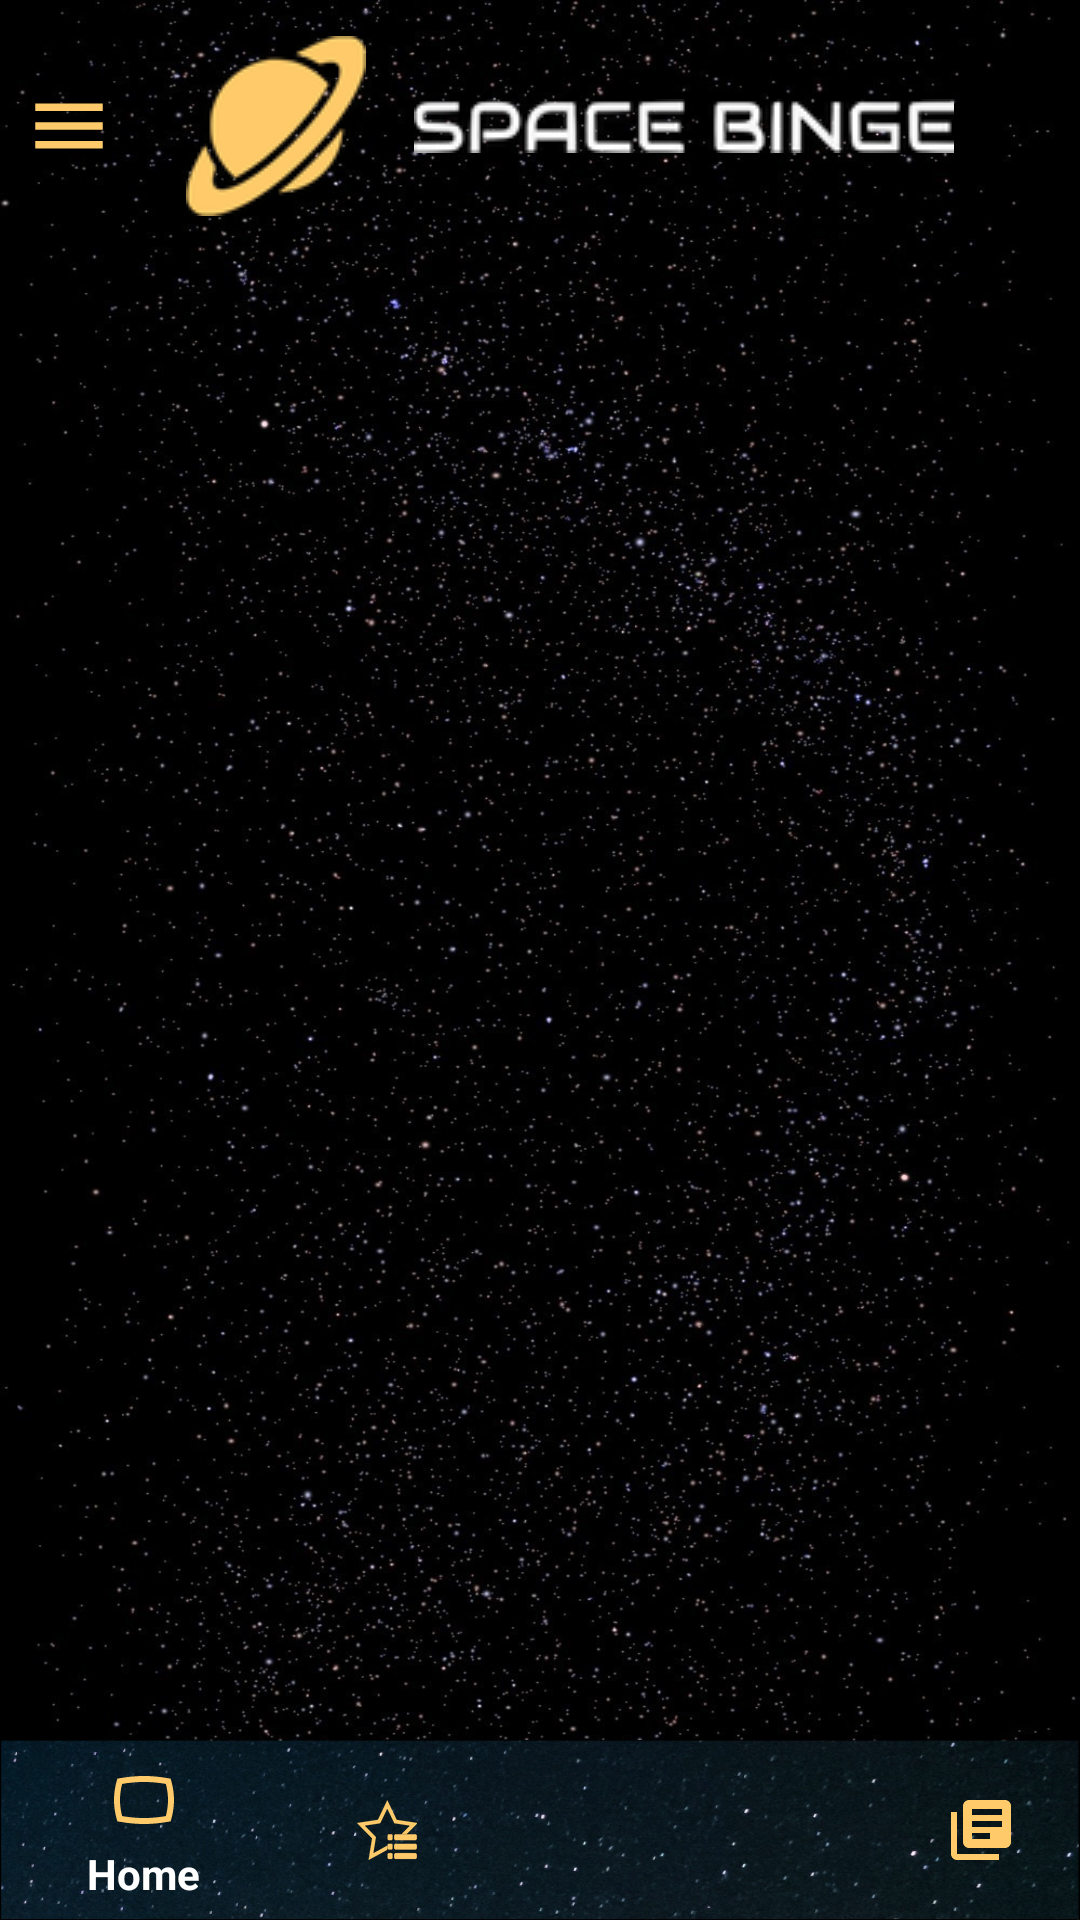

Named icons in this screenshot (1080 × 1920) and their bounding boxes, detection(x1, y1, x2, y2):
all screen app icon: detection(186, 36, 366, 216)
Navigation Drawer Button Image: detection(24, 81, 114, 170)
